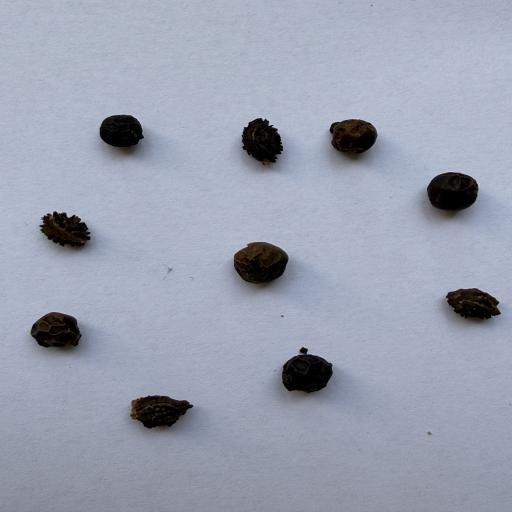Black_pepper: (230, 239, 288, 284), (424, 170, 480, 213), (328, 118, 380, 158), (281, 353, 333, 393), (31, 310, 82, 348), (100, 112, 146, 149)
papaya_seed: (112, 362, 240, 454), (24, 196, 134, 262), (230, 107, 314, 174), (437, 282, 512, 347)
